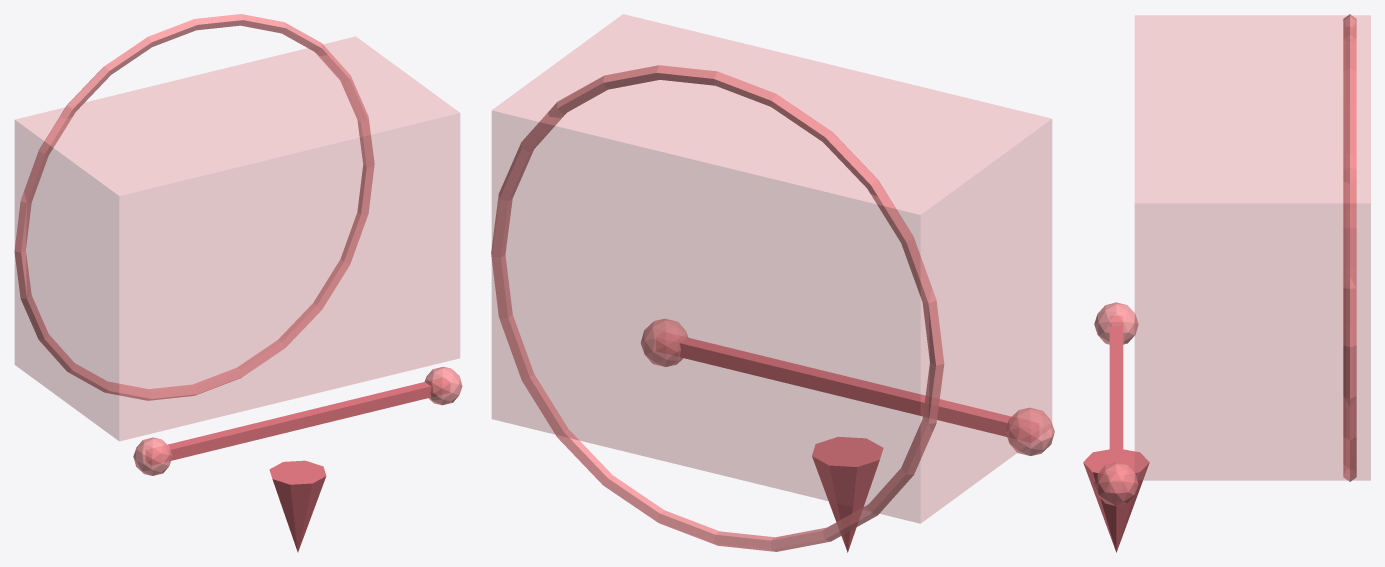
File: 06_dynamic_combat_camera_trigger.glb
3 views of the same model, side by side, from view 1: azimuth 30°, elevation 25°; view 2: azimuth 150°, elevation 25°; view 3: azimuth 270°, elevation 25° (orthographic). The views are drawn at different scales.
Visible parts, largest first — view 1: combat_camera_volume, combat_start_ring, camera_rail, look_direction, camera_anchor_a, camera_anchor_b; view 2: combat_camera_volume, combat_start_ring, camera_rail, look_direction, camera_anchor_a, camera_anchor_b; view 3: combat_camera_volume, combat_start_ring, look_direction, camera_rail, camera_anchor_b, camera_anchor_a.
Part boxes in pixels (left/top/right/bottom): combat_camera_volume: left=15, top=36, right=459, bottom=441; combat_start_ring: left=14, top=14, right=374, bottom=400; camera_rail: left=146, top=378, right=449, bottom=464; look_direction: left=269, top=460, right=326, bottom=552; camera_anchor_a: left=133, top=437, right=172, bottom=475; camera_anchor_b: left=424, top=366, right=462, bottom=405; combat_camera_volume: left=492, top=14, right=1051, bottom=523; combat_start_ring: left=491, top=65, right=944, bottom=551; camera_rail: left=679, top=337, right=1011, bottom=436; look_direction: left=812, top=436, right=883, bottom=552; camera_anchor_a: left=1005, top=407, right=1054, bottom=455; camera_anchor_b: left=641, top=318, right=687, bottom=366; combat_camera_volume: left=1135, top=15, right=1370, bottom=480; combat_start_ring: left=1343, top=14, right=1356, bottom=481; look_direction: left=1083, top=449, right=1149, bottom=552; camera_rail: left=1109, top=316, right=1123, bottom=492; camera_anchor_b: left=1094, top=462, right=1138, bottom=506; camera_anchor_a: left=1094, top=302, right=1138, bottom=344.
Bounding box in the file's own units: 1.69 × 2.06 × 1.03.
